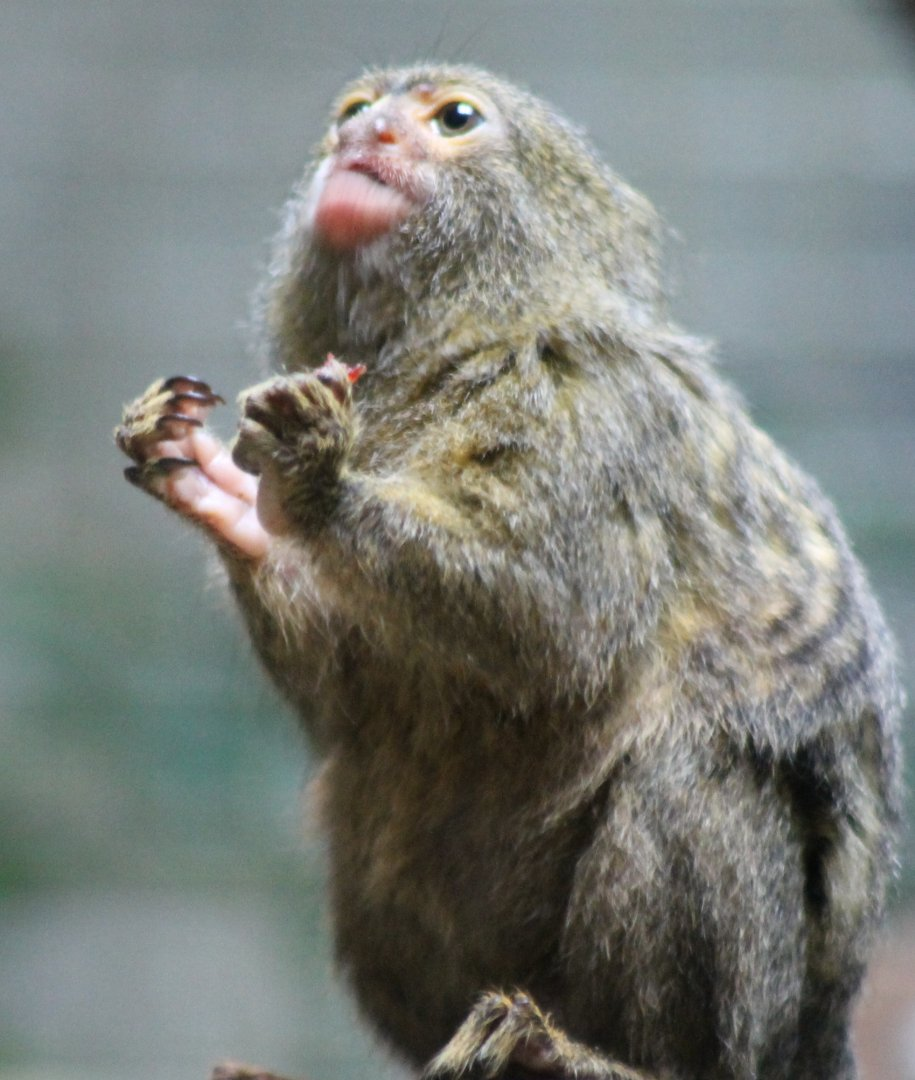PygmyMarmoset: (121, 34, 903, 1065)
